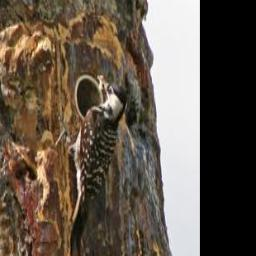Woodpecker: (55, 75, 128, 256)
